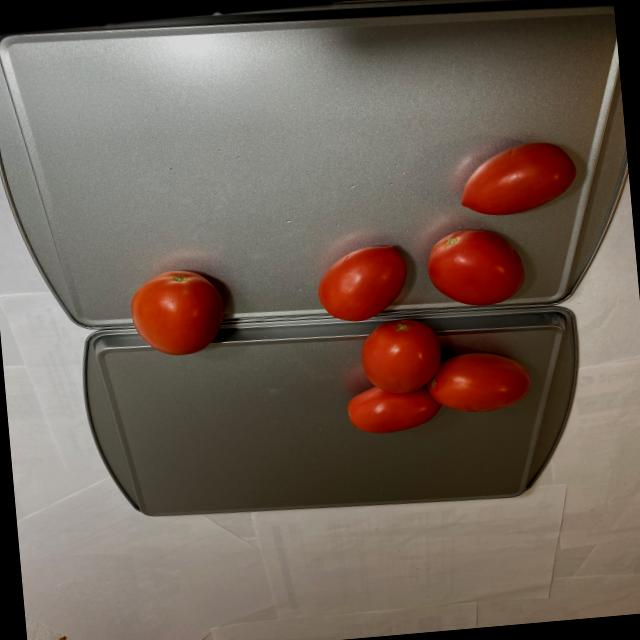tomato: (314, 126, 604, 439), (125, 262, 232, 362)
